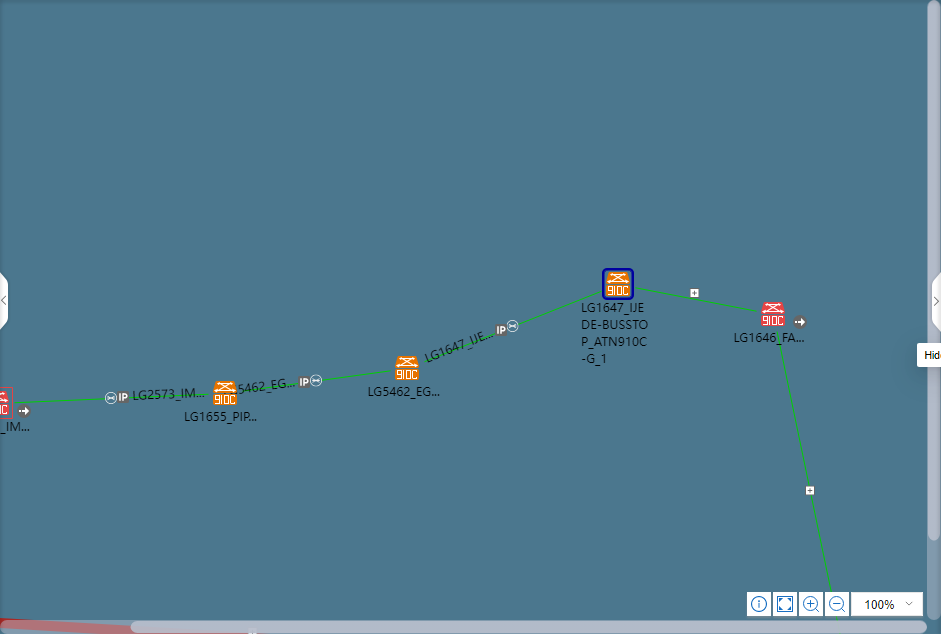ATN_Orange: (602, 269, 633, 299), (212, 382, 236, 405), (394, 357, 418, 380)
ATN_Red: (761, 303, 784, 326)
Link_Green: (775, 332, 833, 592), (423, 290, 602, 363), (242, 370, 391, 393), (636, 286, 757, 313), (14, 393, 208, 405)
